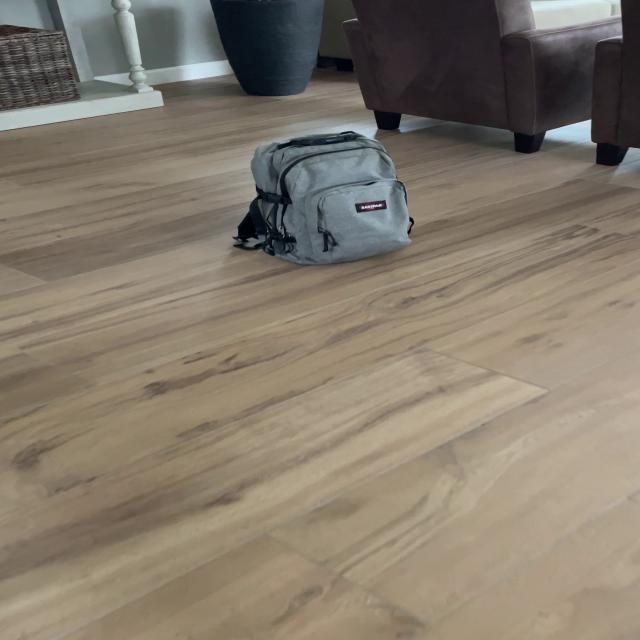backpack: (226, 125, 421, 273)
